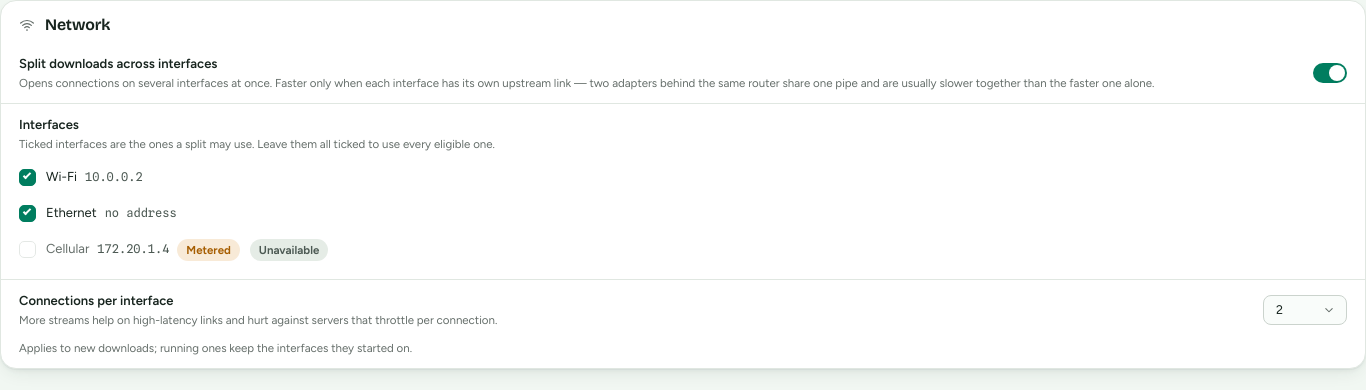
Test case: NetworkCard › switches splitting at once, adopting what the server echoes
Click the switch named "Split downloads across interfaces": [1330, 73] box [1313, 63, 1347, 83]
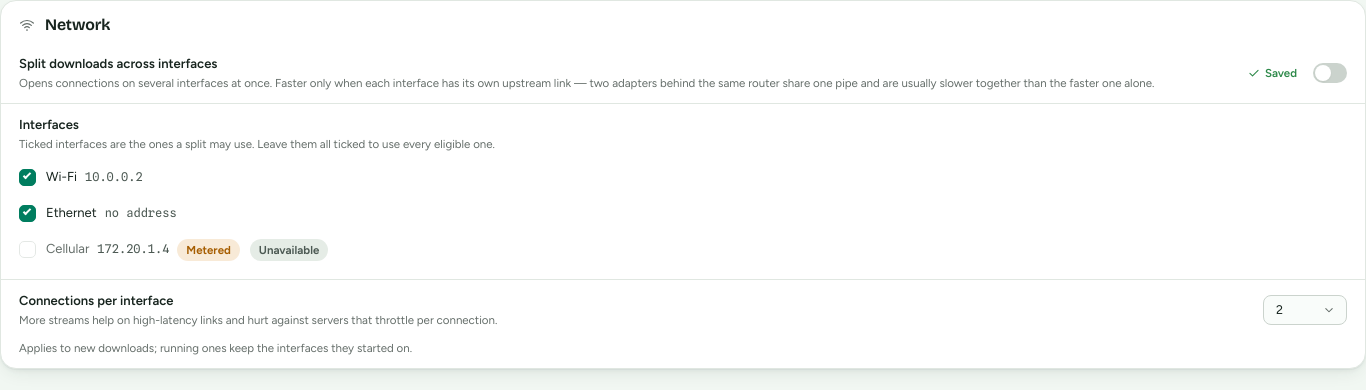
Result: the text "Saved" is shown at [1247, 65, 1297, 81]
